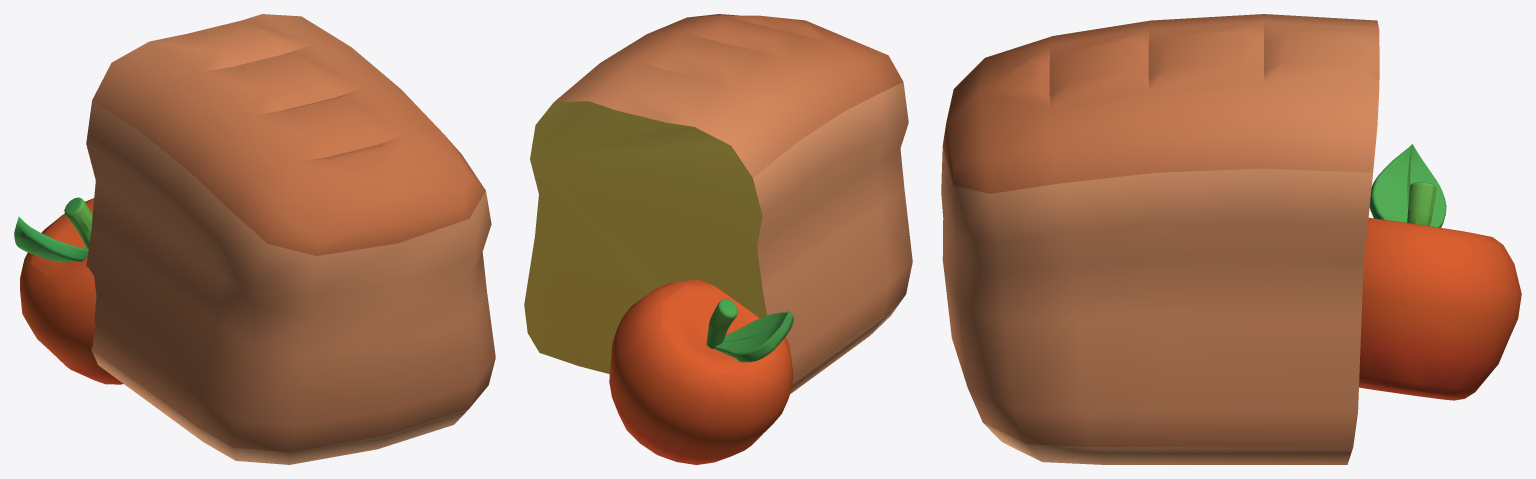
Rendered from Fruit Bread.obj.
3 renders of one model, left to right at view 1: azimuth 30°, elevation 25°; view 2: azimuth 150°, elevation 25°; view 3: azimuth 270°, elevation 25°, orthographic. The views are drawn at different scales.
Visible parts, largest first — view 1: bread, Apple; view 2: bread, Apple; view 3: bread, Apple.
Boxes of the visible parts, left/top/right/bottom form: bread: left=86, top=14, right=495, bottom=464; Apple: left=14, top=197, right=123, bottom=384; bread: left=524, top=14, right=912, bottom=393; Apple: left=609, top=279, right=794, bottom=464; bread: left=941, top=14, right=1379, bottom=464; Apple: left=1359, top=144, right=1521, bottom=400.
Size of the model in its own units: 0.1543 by 0.1654 by 0.2196.
